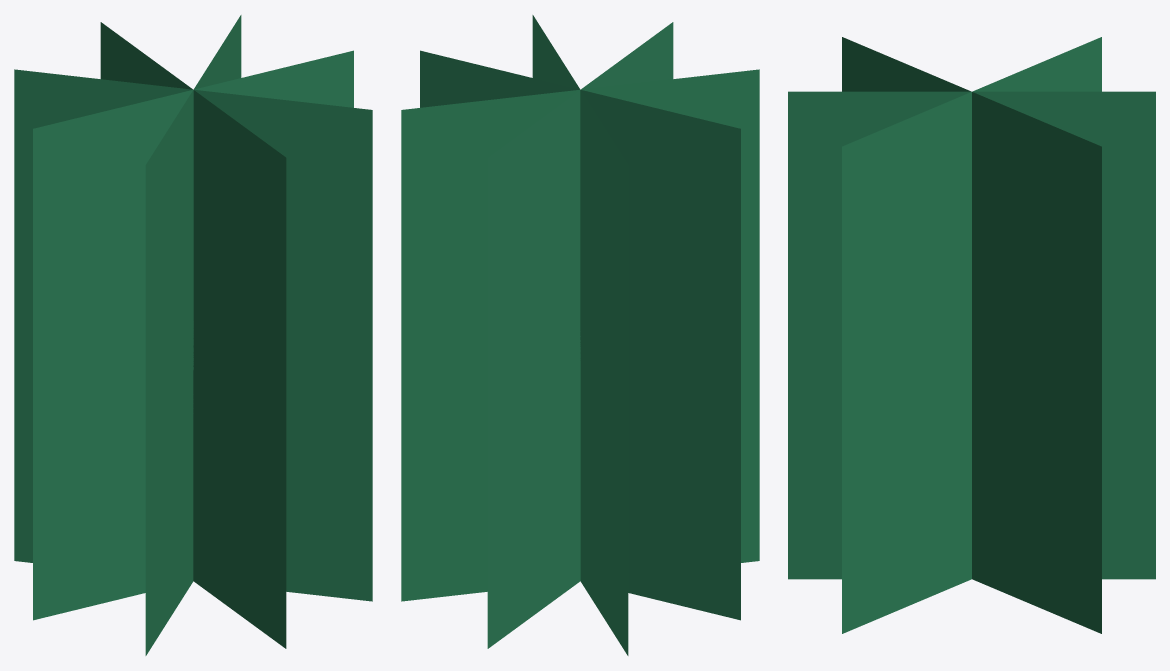
The model's file is mw_alchemy_herb_02.FBX.
3 renders of one model, left to right at view 1: azimuth 30°, elevation 25°; view 2: azimuth 150°, elevation 25°; view 3: azimuth 270°, elevation 25°, orthographic.
Visible parts, largest first — view 1: mw_alchemy_herb_02; view 2: mw_alchemy_herb_02; view 3: mw_alchemy_herb_02.
Boxes of the visible parts, left/top/right/bottom form: mw_alchemy_herb_02: left=14, top=15, right=372, bottom=655; mw_alchemy_herb_02: left=401, top=15, right=759, bottom=655; mw_alchemy_herb_02: left=788, top=37, right=1155, bottom=633.
Size of the model in its own units: 45.29 by 66.24 by 45.29.
